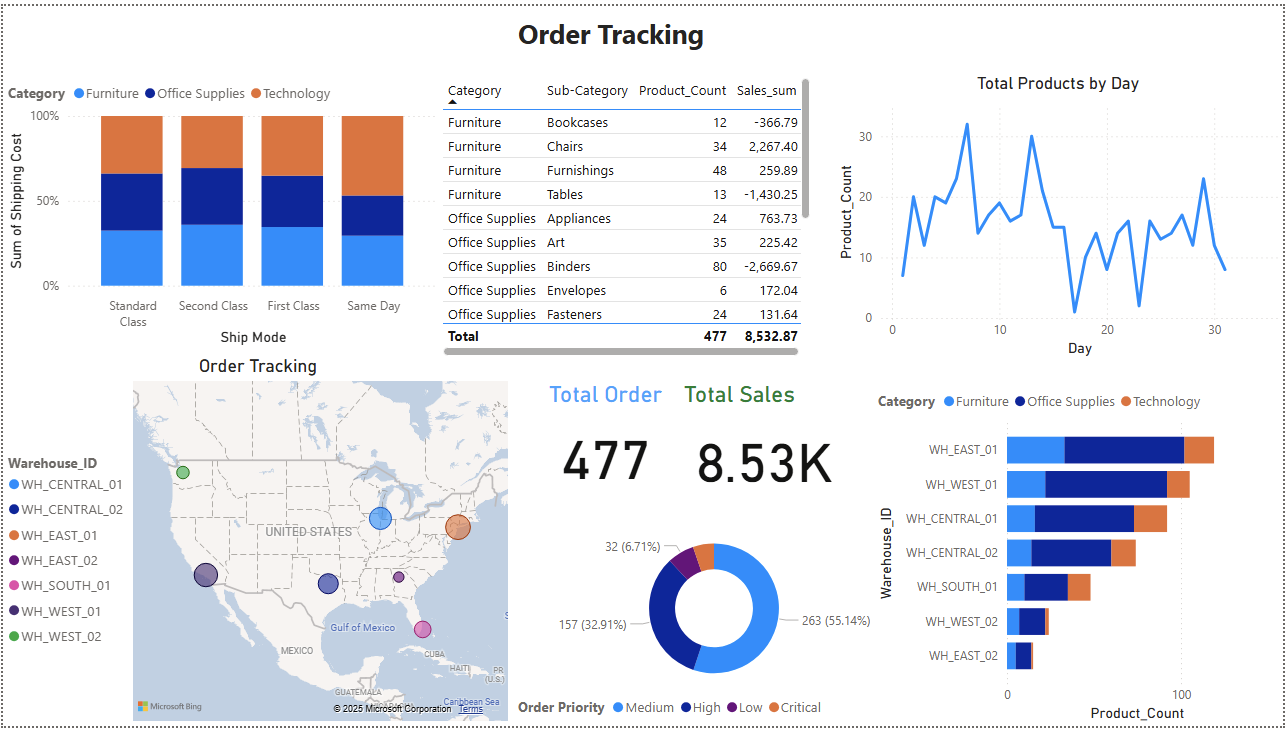

The page's visual inventory and layout, read from the dashboard file:
{"tool":"powerbi","page":{"name":"Order Tracking","canvas":[1280,720],"ordinal":1},"visuals":[{"type":"map","title":"Order Tracking","fields":{"Y":["Warehouse_Locations.Latitude"],"X":["Warehouse_Locations.Longitude"],"Series":["Warehouse_Locations.Warehouse_ID"],"Size":["Orders.OnGoing_Product_Count"]},"box":[0,349,510,371],"z":0},{"type":"cardVisual","title":"Total Order","fields":{"Data":["Orders.OnGoing_Product_Count"]},"box":[529,375,147,122],"z":1},{"type":"donutChart","fields":{"Y":["Orders.OnGoing_Product_Count"],"Category":["Orders.Order Priority"]},"box":[510,514,402,206],"z":2},{"type":"textbox","box":[510,4,226,50],"z":3},{"type":"cardVisual","title":"Total Sales","fields":{"Data":["Orders.OnGoing_Sales_sum"]},"box":[676,375,194,112],"z":4},{"type":"barChart","fields":{"Category":["Warehouse_Locations.Warehouse_ID"],"Y":["Orders.OnGoing_Product_Count"],"Series":["Orders.Category"]},"box":[870,375,410,345],"z":5},{"type":"tableEx","fields":{"Values":["Orders.Category","Orders.Sub-Category","Orders.OnGoing_Product_Count","Orders.OnGoing_Sales_sum"]},"box":[434,67,378,288],"z":6},{"type":"lineChart","title":"Total Products by Day","fields":{"Category":["Orders.Ship Date.Variation.Date Hierarchy.Day"],"Y":["Orders.Product_Count"]},"box":[830,67,450,288],"z":7},{"type":"hundredPercentStackedColumnChart","fields":{"Category":["Orders.Ship Mode"],"Y":["Sum(Orders.Shipping Cost)"],"Series":["Orders.Category"]},"box":[0,67,440,277],"z":8}]}

Visuals, with their boxes in screenshot pixels (x1, y1, x2, y2), scaled from the page's 1280x720 canvas onto the 1288x732 screenshot:
"Order Tracking" map: bbox=[0, 355, 513, 731]
"Total Order" cardVisual: bbox=[532, 381, 680, 505]
donutChart - Orders.OnGoing_Product_Count x Orders.Order Priority: bbox=[513, 523, 918, 731]
textbox: bbox=[513, 4, 741, 55]
"Total Sales" cardVisual: bbox=[680, 381, 875, 495]
barChart - Warehouse_Locations.Warehouse_ID x Orders.OnGoing_Product_Count: bbox=[875, 381, 1287, 731]
tableEx - Orders.Category x Orders.Sub-Category: bbox=[437, 68, 817, 361]
"Total Products by Day" lineChart: bbox=[835, 68, 1287, 361]
hundredPercentStackedColumnChart - Orders.Ship Mode x Sum(Orders.Shipping Cost): bbox=[0, 68, 443, 350]
